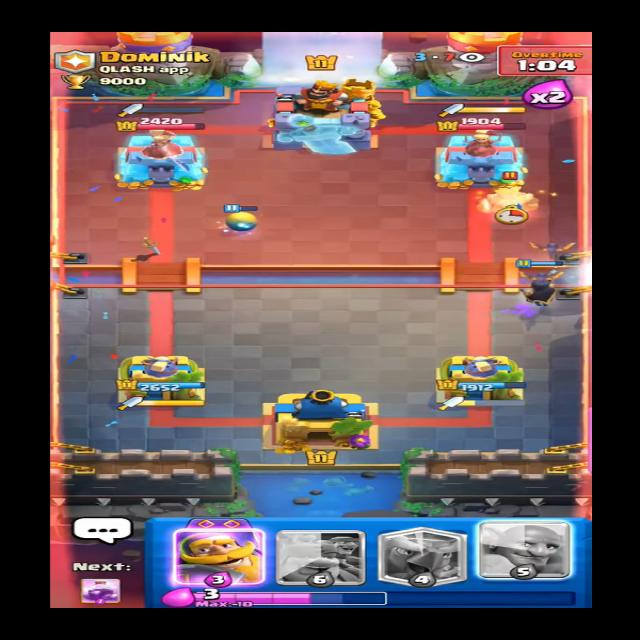Royalghost: (466, 171, 540, 217)
